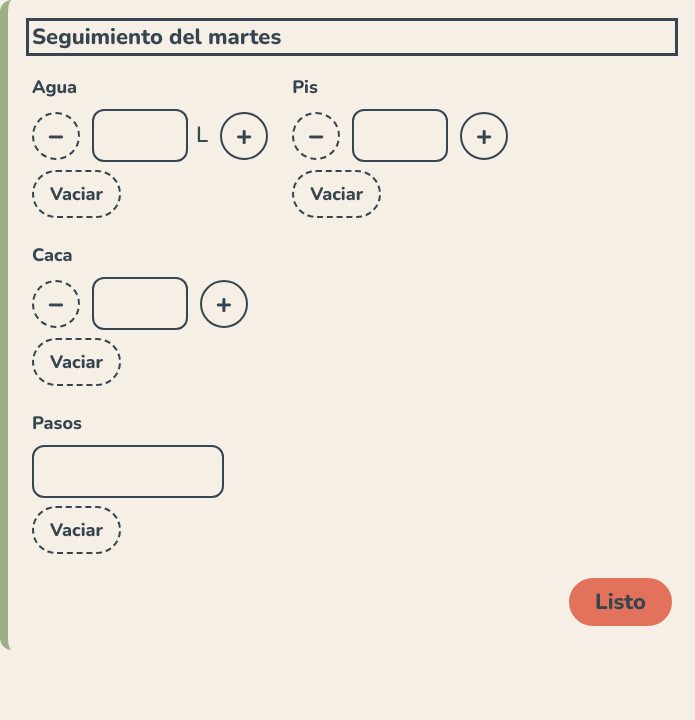
Test case: TrackingPanel › pasos "8,5" muestra un error en línea y no guarda
Type "8,5" into the field labelled "Pasos" at (128, 472), box [32,445,224,498]
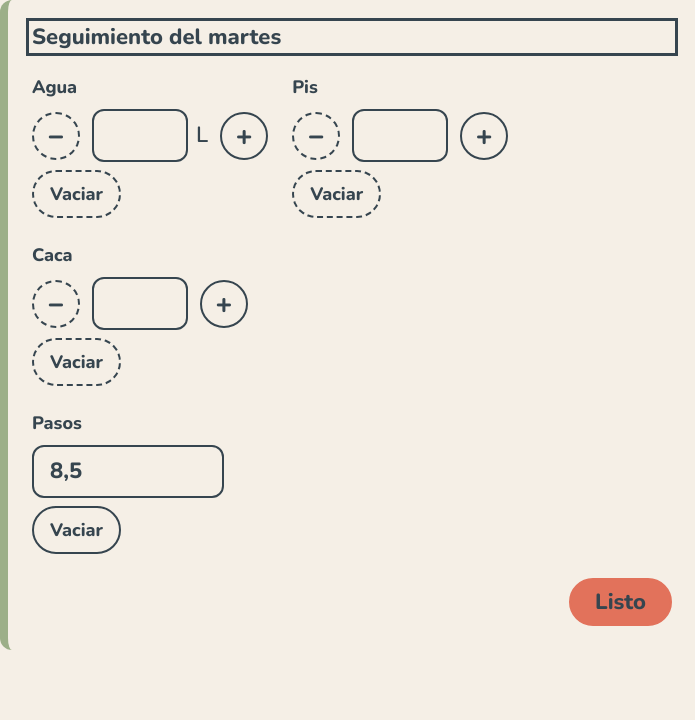
Leave the field labelled "Pasos", box [32,445,224,498]
Wait 2000 ms
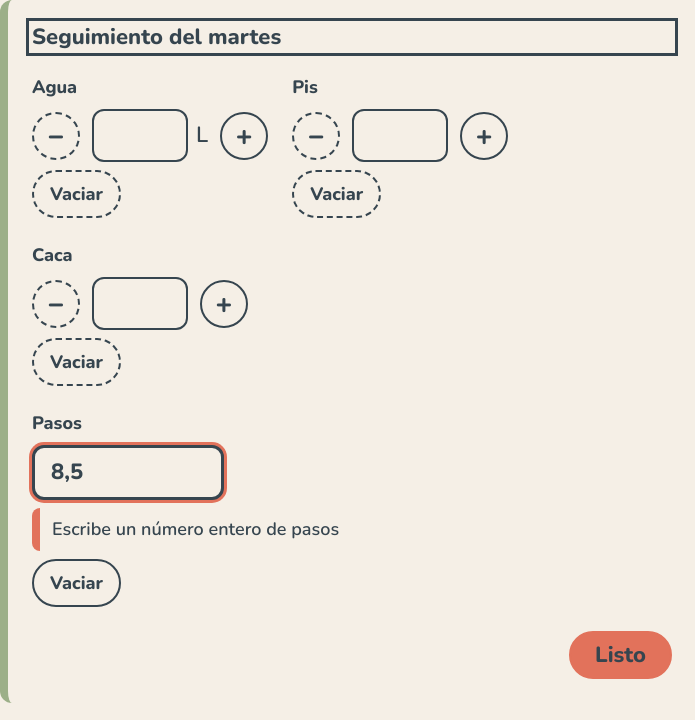
Expected: the text "Escribe un número entero de pasos" is shown, [32,508,351,551]
